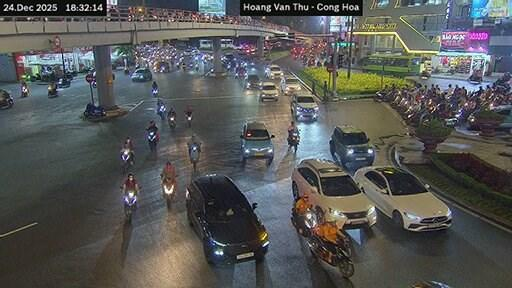motorbike: (307, 234, 352, 277), (291, 207, 316, 237), (160, 176, 176, 207), (124, 189, 135, 223), (188, 143, 198, 171), (83, 103, 105, 115), (121, 148, 131, 171), (288, 130, 298, 151), (0, 91, 12, 107), (147, 130, 156, 151), (156, 103, 166, 118), (373, 90, 387, 100), (467, 73, 482, 82), (57, 76, 70, 86), (167, 115, 175, 130), (48, 85, 57, 97), (419, 70, 429, 79), (21, 85, 28, 97), (185, 112, 191, 126), (152, 88, 157, 95)
